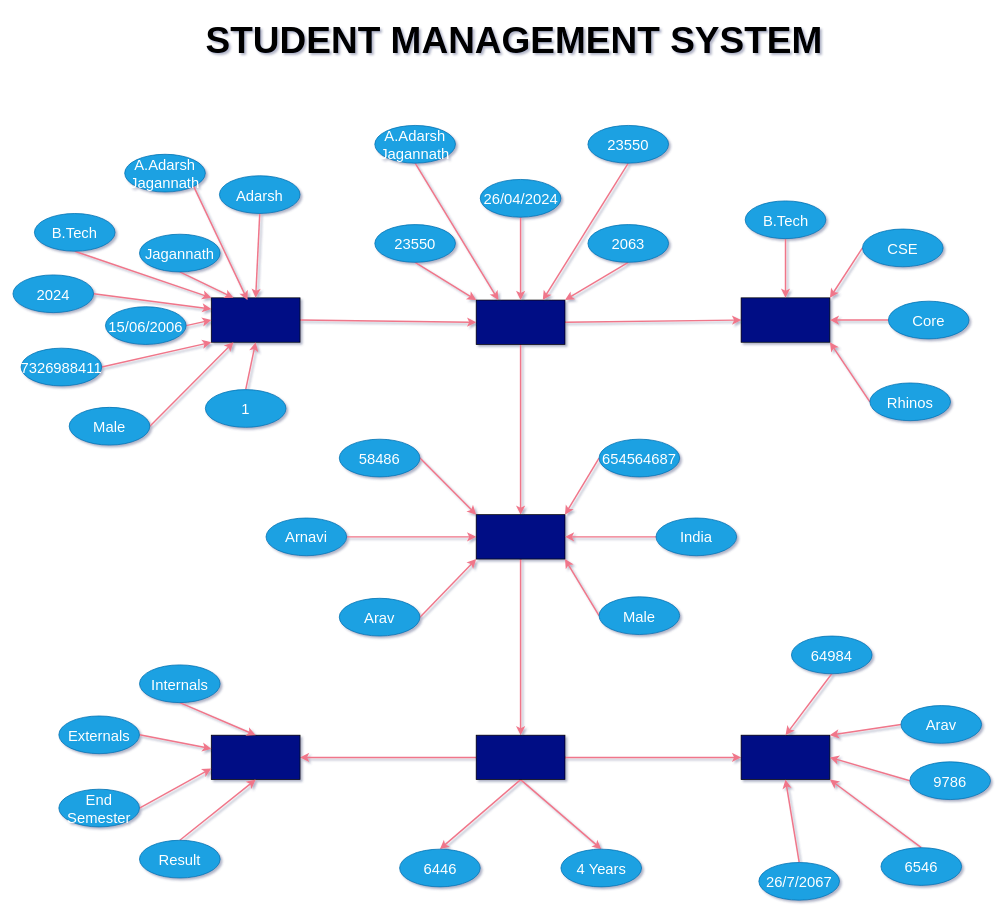
The diagram is 1008 pixels wide and 918 high, and some of its shapes have lost their labels. The shapes that lost their labels are listed below. From the top down, each one's centre as x and y in pixels, then its label:
the point at 255,319: Student
the point at 520,321: Student Registration
the point at 785,319: Courses Offered
the point at 520,536: Staff
the point at 255,757: Reports
the point at 520,757: Staff Department
the point at 785,757: Project Transaction
